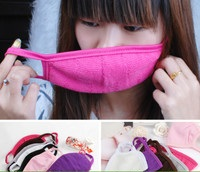face_mask: (77, 1, 164, 91)
